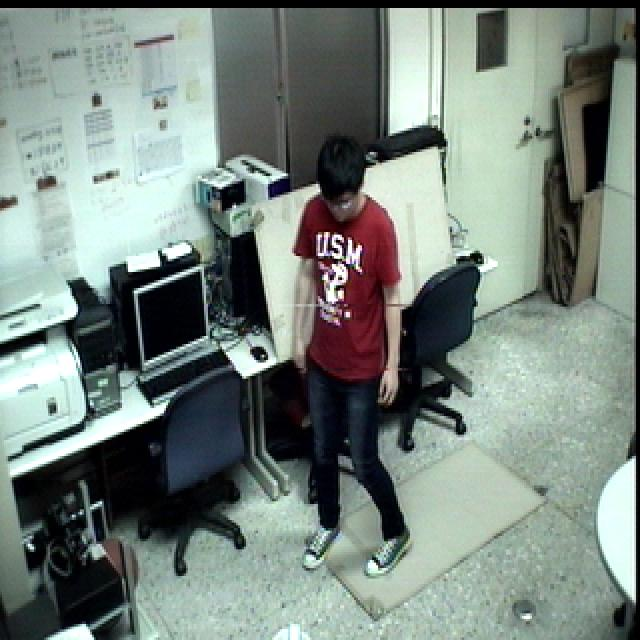stand: (274, 121, 420, 584)
